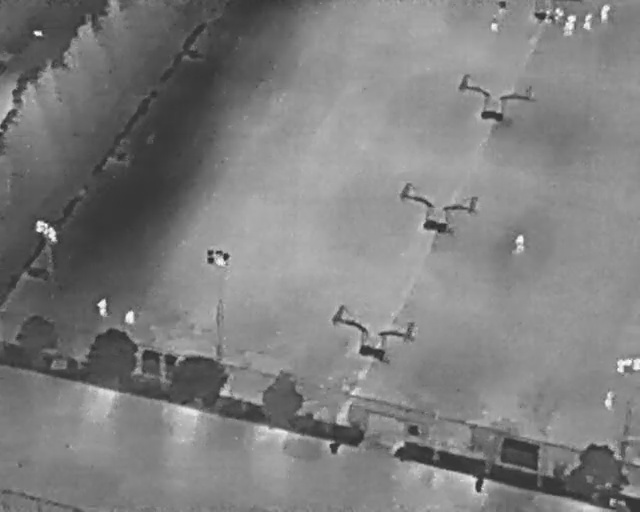Person: (93, 296, 107, 319), (600, 3, 610, 26), (515, 234, 525, 255), (552, 7, 565, 23), (123, 309, 135, 326), (496, 0, 509, 15), (562, 21, 574, 37), (583, 11, 592, 32), (604, 390, 613, 409), (490, 16, 499, 34), (617, 358, 626, 375), (632, 356, 640, 372), (543, 10, 552, 23), (568, 15, 577, 26), (623, 357, 632, 368)
